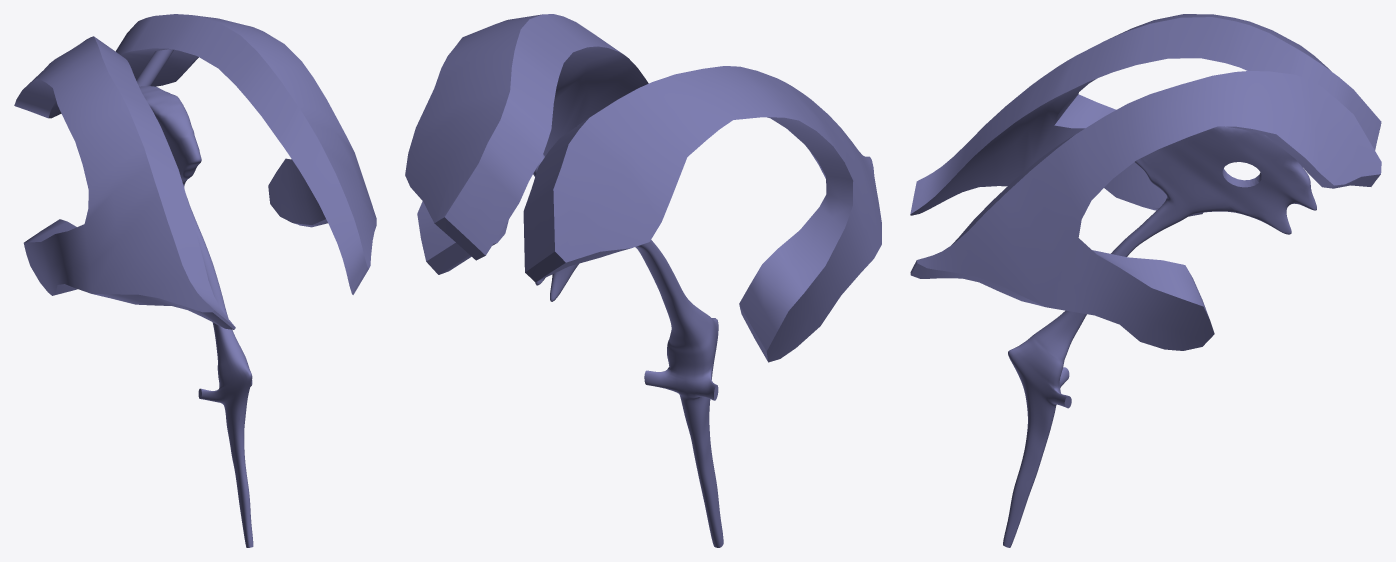
Rendered from brain-ventricle-model.fbx.
3 views of the same model, side by side, from view 1: azimuth 30°, elevation 25°; view 2: azimuth 150°, elevation 25°; view 3: azimuth 270°, elevation 25° (orthographic). The views are drawn at different scales.
Visible parts, largest first — view 1: Ventricles:h4, Ventricles:polySurface22, Ventricles:polySurface23, Ventricles:polySurface21; view 2: Ventricles:h4, Ventricles:polySurface22, Ventricles:polySurface23; view 3: Ventricles:polySurface22, Ventricles:h4, Ventricles:polySurface23.
Boxes of the visible parts, x1,y1,x2,y2 form: Ventricles:h4: (14,36,235,329); Ventricles:polySurface22: (115,14,376,294); Ventricles:polySurface23: (139,86,253,547); Ventricles:polySurface21: (136,49,173,86); Ventricles:h4: (523,66,881,362); Ventricles:polySurface22: (405,14,648,274); Ventricles:polySurface23: (535,124,723,547); Ventricles:polySurface22: (910,71,1381,350); Ventricles:h4: (910,14,1381,216); Ventricles:polySurface23: (1003,126,1316,547).
Bounding box in the file's own units: 13.41 × 19.23 × 16.29.
